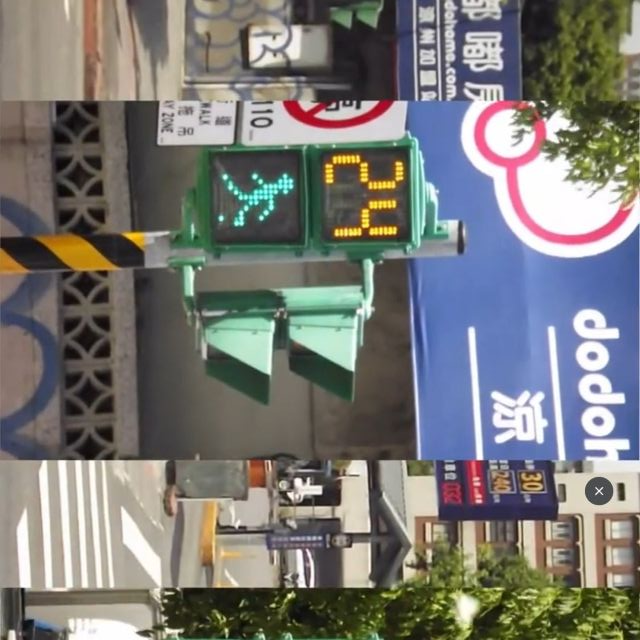green_light: (202, 148, 422, 251)
